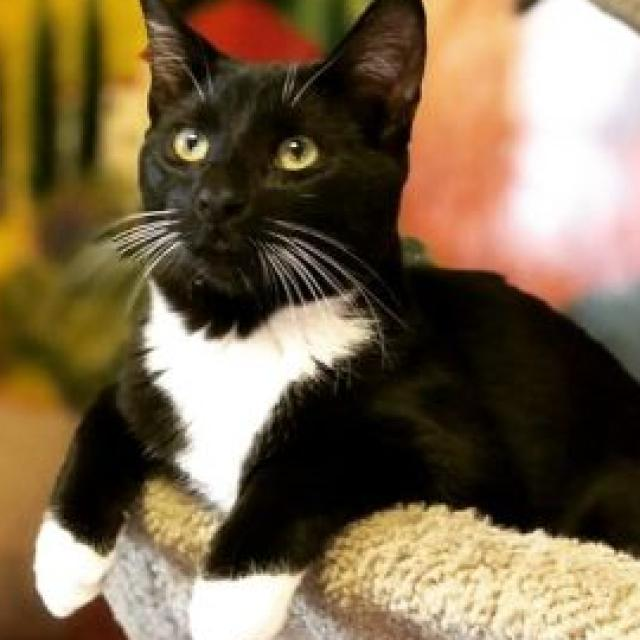Tuxedo: (28, 0, 640, 640)
